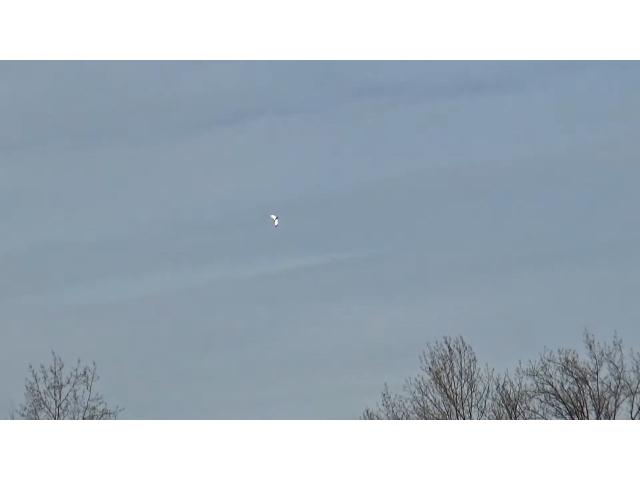Anti-Drone: (272, 214, 278, 227)
